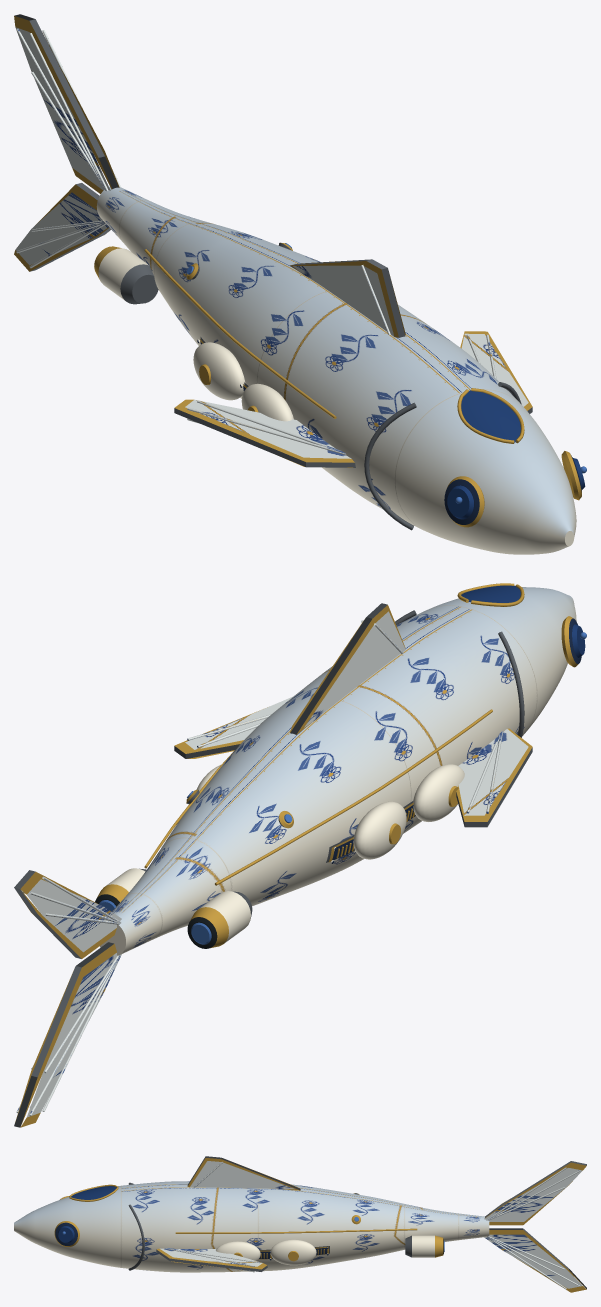
The picture shows the model from 3 angles, top to bottom: view 1: azimuth 30°, elevation 25°; view 2: azimuth 150°, elevation 25°; view 3: azimuth 270°, elevation 25°; orthographic projection. The views are drawn at different scales.
Parts seen in each view (by area): view 1: pilotfish_hull; view 2: pilotfish_hull; view 3: pilotfish_hull.
Part boxes in pixels (left/top/right/bottom): pilotfish_hull: left=14, top=14, right=586, bottom=554; pilotfish_hull: left=14, top=583, right=586, bottom=1127; pilotfish_hull: left=14, top=1156, right=586, bottom=1292.
Bounding box in the file's own units: 5.24 × 4.16 × 16.
1 material, 1 textured.
